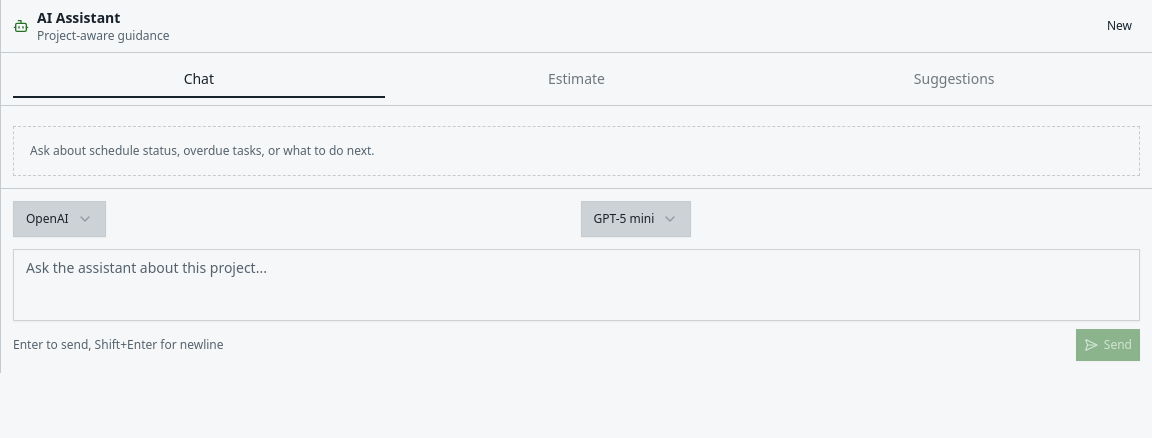
Test: AiDockedPanel › shows a fallback assistant message when the stream returns no chunks
In the text box with placeholder "Ask the assistant about this project...": (576, 285) [13, 249, 1140, 321], type "Any update?"
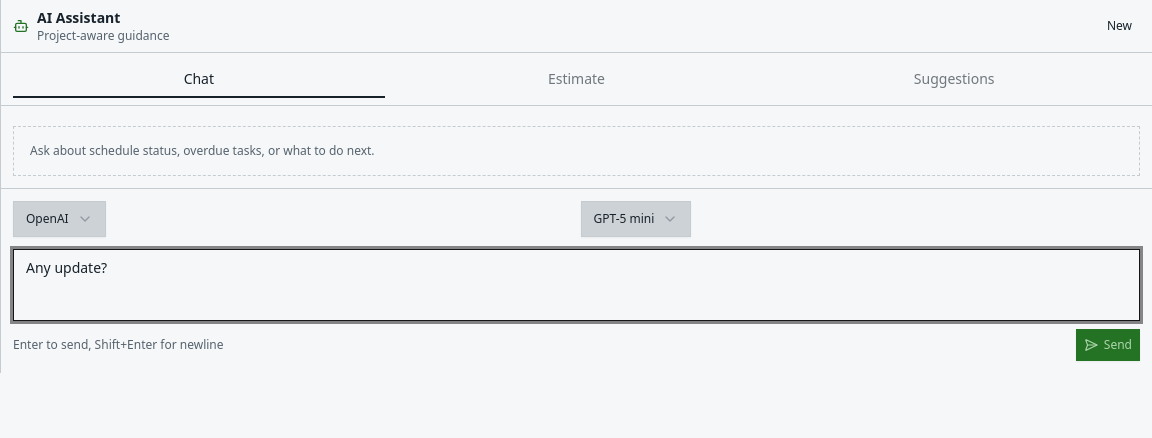
Click the button "Send": (1108, 345) [1076, 329, 1140, 361]
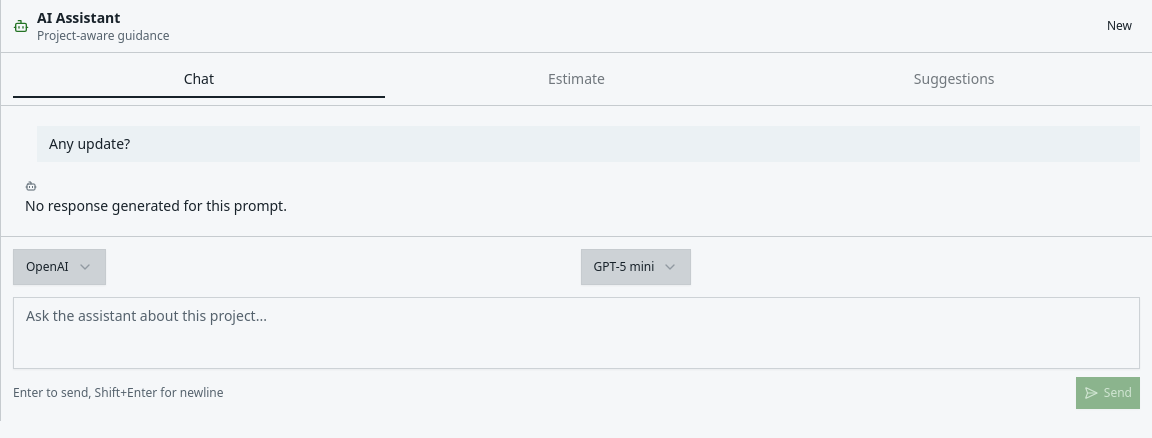
expect the text "No response generated for this prompt." is shown: met, box [25, 196, 287, 215]
